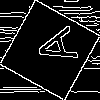A: (25, 25, 78, 70)
